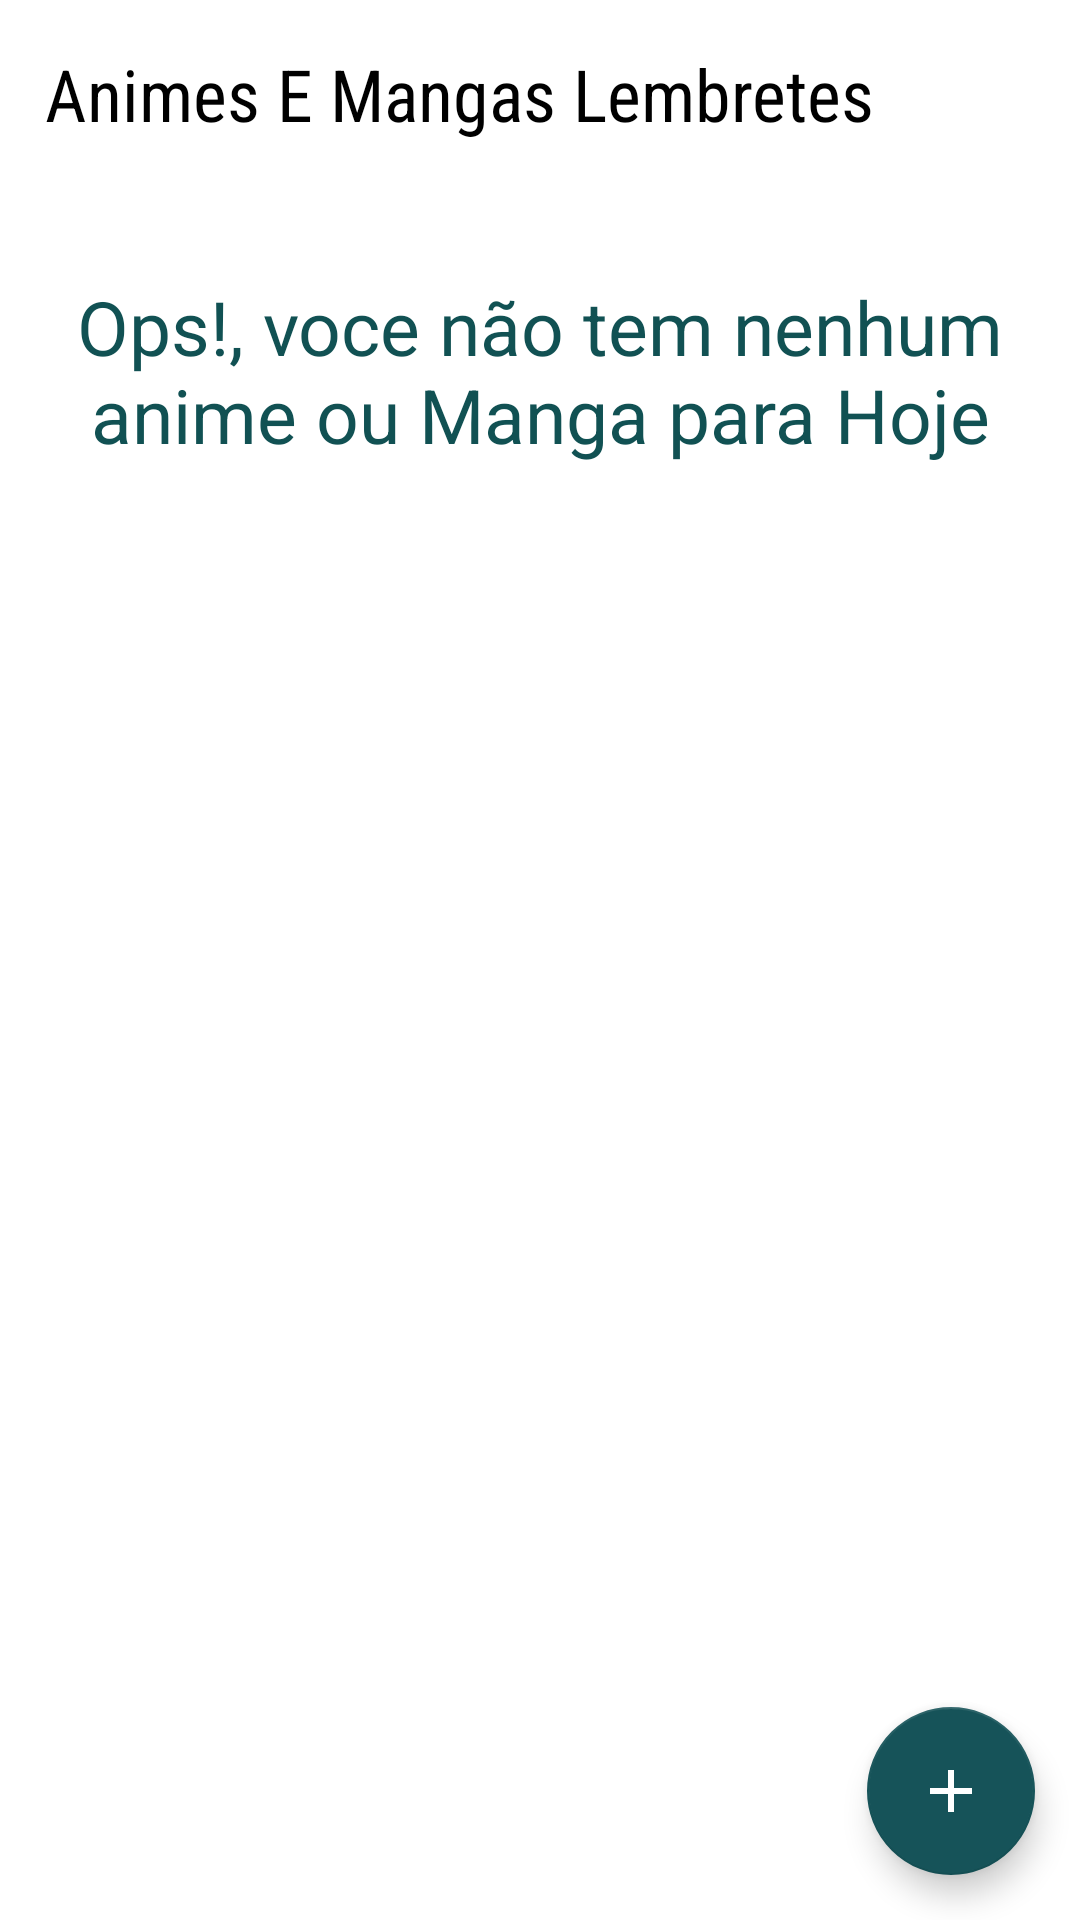

Screen size 1080×1920. Icon name, then its box in pixels as (x1, y1, x2, y2):
Novos Lembretes: (867, 1707, 1035, 1875)
